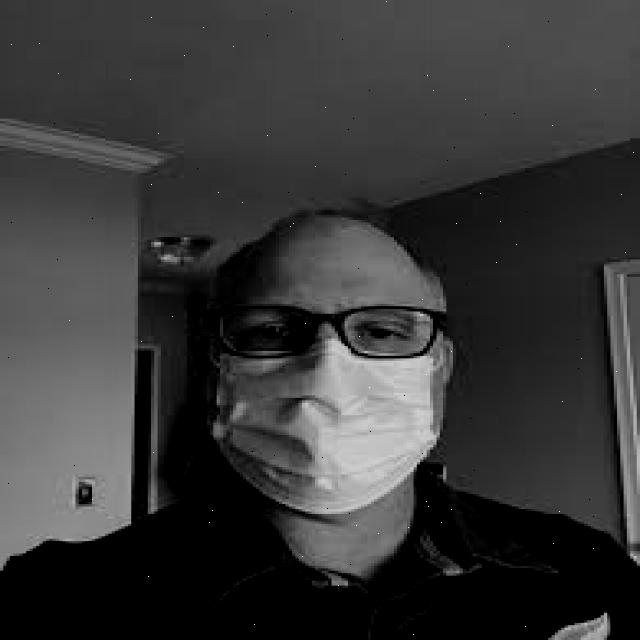fake: (199, 340, 454, 519)
real: (211, 212, 446, 531)
